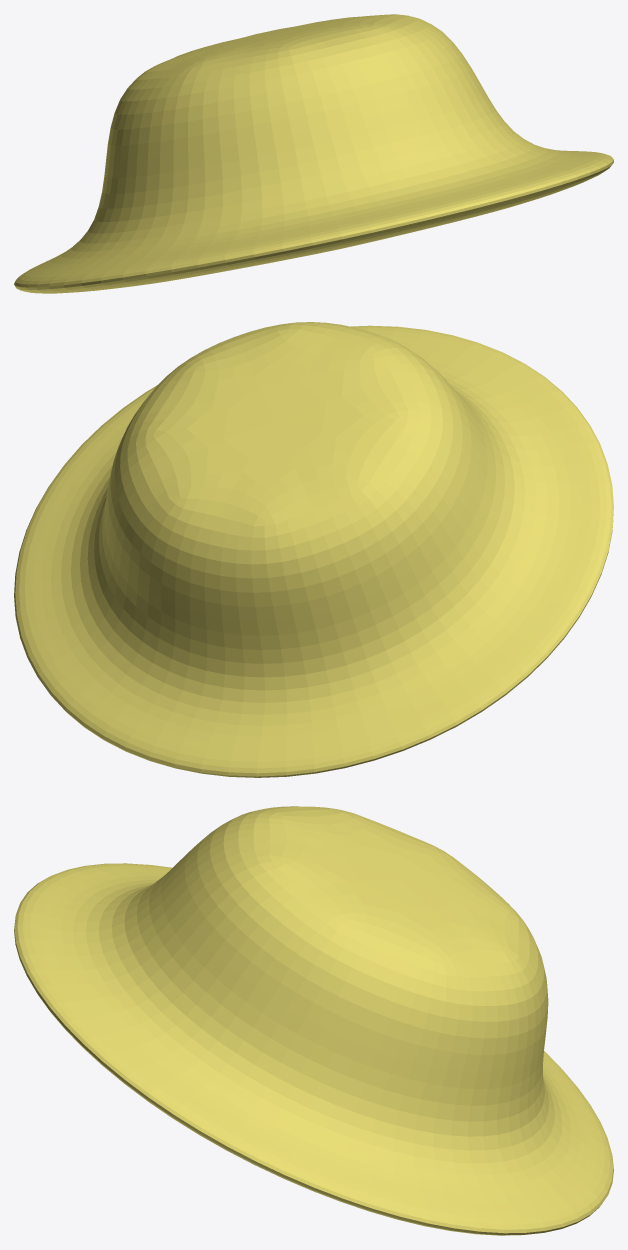
Rendered from Hat.fbx.
3 renders of one model, top to bottom at view 1: azimuth 30°, elevation 25°; view 2: azimuth 150°, elevation 25°; view 3: azimuth 270°, elevation 25°, orthographic. The views are drawn at different scales.
Parts seen in each view (by area): view 1: Straw; view 2: Straw; view 3: Straw.
Boxes of the visible parts, bbox=[...] form: Straw: bbox=[14, 14, 613, 293]; Straw: bbox=[14, 322, 613, 777]; Straw: bbox=[14, 806, 613, 1235].
Size of the model in its own units: 264 by 242 by 150.
